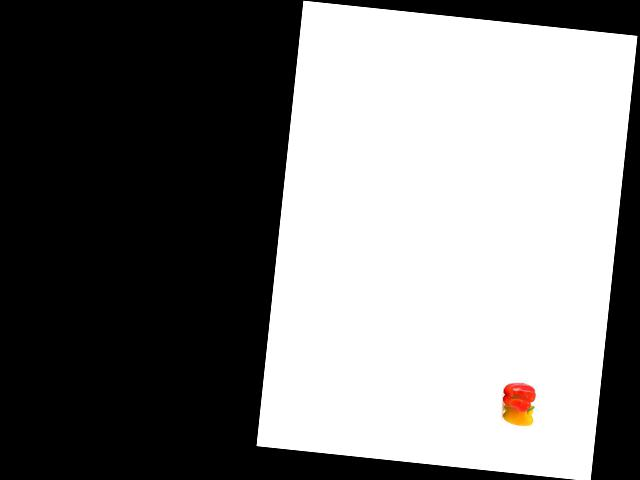bell_pepper: (500, 398, 534, 427)
